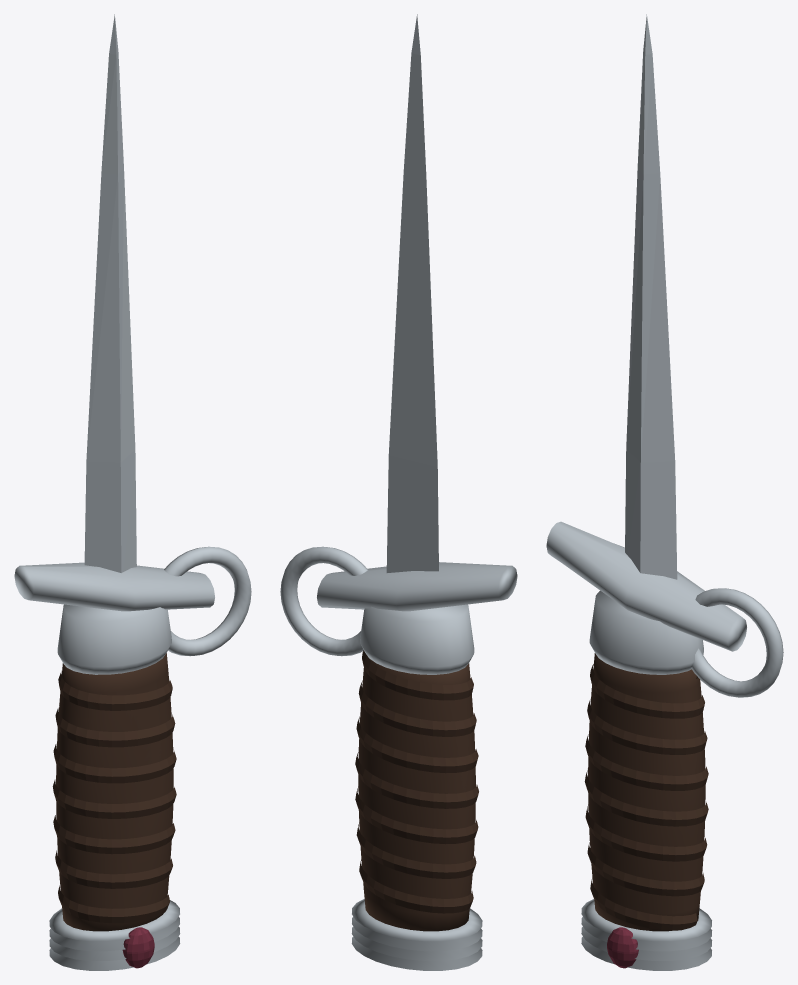
Rendered from corealm_dagger_3.glb.
3 views of the same model, side by side, from view 1: azimuth 30°, elevation 25°; view 2: azimuth 150°, elevation 25°; view 3: azimuth 330°, elevation 25° (orthographic).
Parts seen in each view (by area): view 1: equipment-dagger-leather, equipment-dagger-metal, equipment-dagger-blade, equipment-dagger-gem; view 2: equipment-dagger-leather, equipment-dagger-metal, equipment-dagger-blade; view 3: equipment-dagger-leather, equipment-dagger-metal, equipment-dagger-blade, equipment-dagger-gem.
Part boxes in pixels (x1,y1,x2,y2): equipment-dagger-leather: [52, 653, 176, 931]; equipment-dagger-metal: [14, 546, 251, 970]; equipment-dagger-blade: [84, 14, 136, 572]; equipment-dagger-gem: [122, 927, 154, 968]; equipment-dagger-leather: [355, 650, 478, 931]; equipment-dagger-metal: [280, 546, 517, 970]; equipment-dagger-blade: [386, 14, 438, 572]; equipment-dagger-leather: [584, 653, 708, 931]; equipment-dagger-metal: [546, 521, 783, 970]; equipment-dagger-blade: [625, 14, 677, 579]; equipment-dagger-gem: [607, 927, 638, 968].
Bounding box in the file's own units: 0.12 × 0.475 × 0.051.
